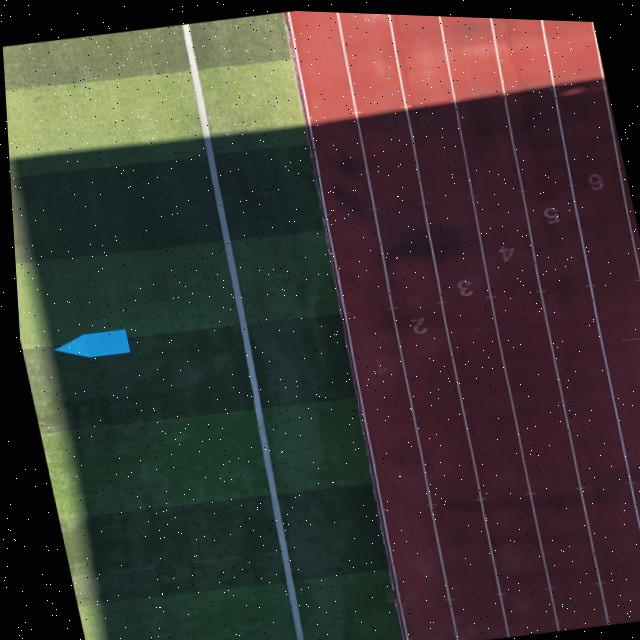board: (48, 328, 126, 358)
